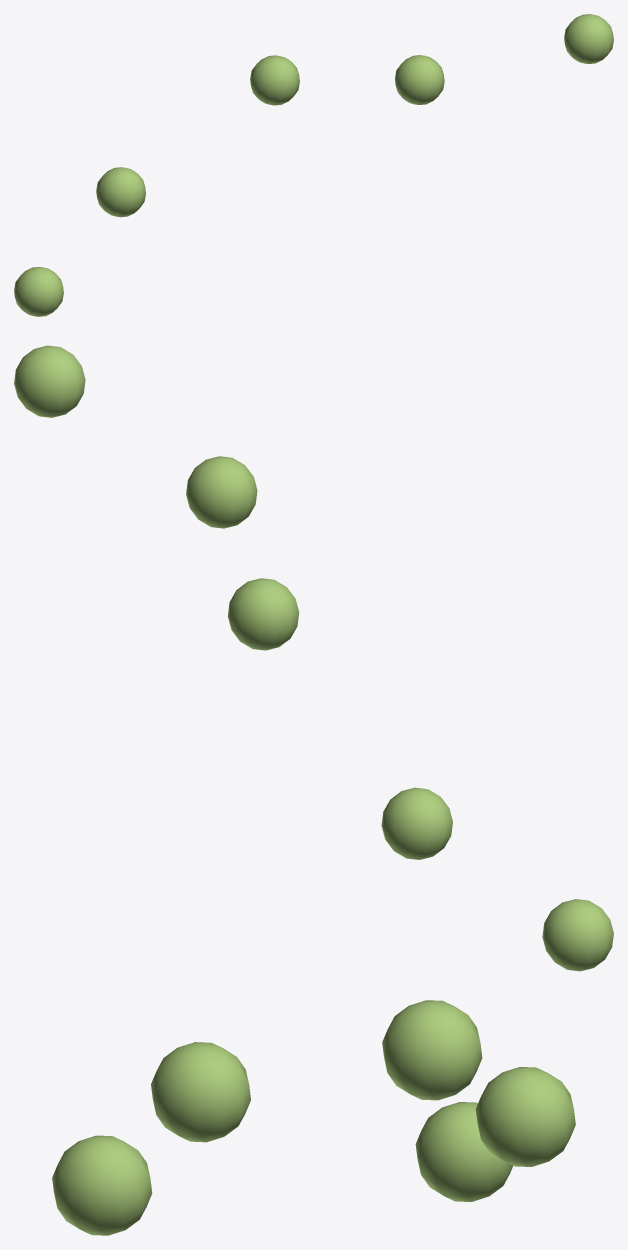
The model's file is infraclavicular-nodes-r.glb.
3 views of the same model, one above another, from view 1: azimuth 30°, elevation 25°; view 2: azimuth 150°, elevation 25°; view 3: azimuth 270°, elevation 25° (orthographic). The views are drawn at different scales.
Parts seen in each view (by area): view 1: Infraclavicular nodes.r; view 2: Infraclavicular nodes.r; view 3: Infraclavicular nodes.r.
Part boxes in pixels (x1,y1,x2,y2): Infraclavicular nodes.r: (14, 14, 613, 316); Infraclavicular nodes.r: (14, 345, 613, 971); Infraclavicular nodes.r: (52, 1000, 575, 1235).
Size of the model in its own units: 0.0297 by 0.0143 by 0.0134.
